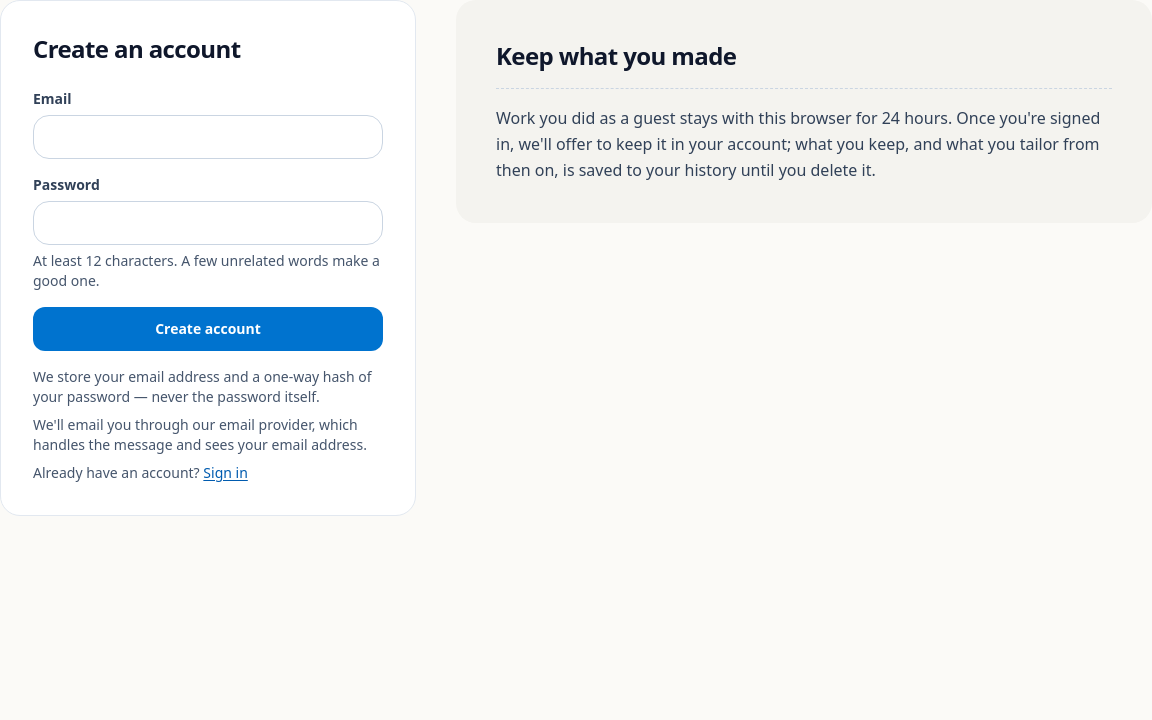
Scenario: AC-45: /register accessibility › after a failed submit: the error is role="alert" and both inputs resolve to it via aria-describedby
The width and height of the screenshot is (1152, 720).
Type "alex@example.com" into the field labelled "Email" at point(208, 137), box [33,115,383,159]
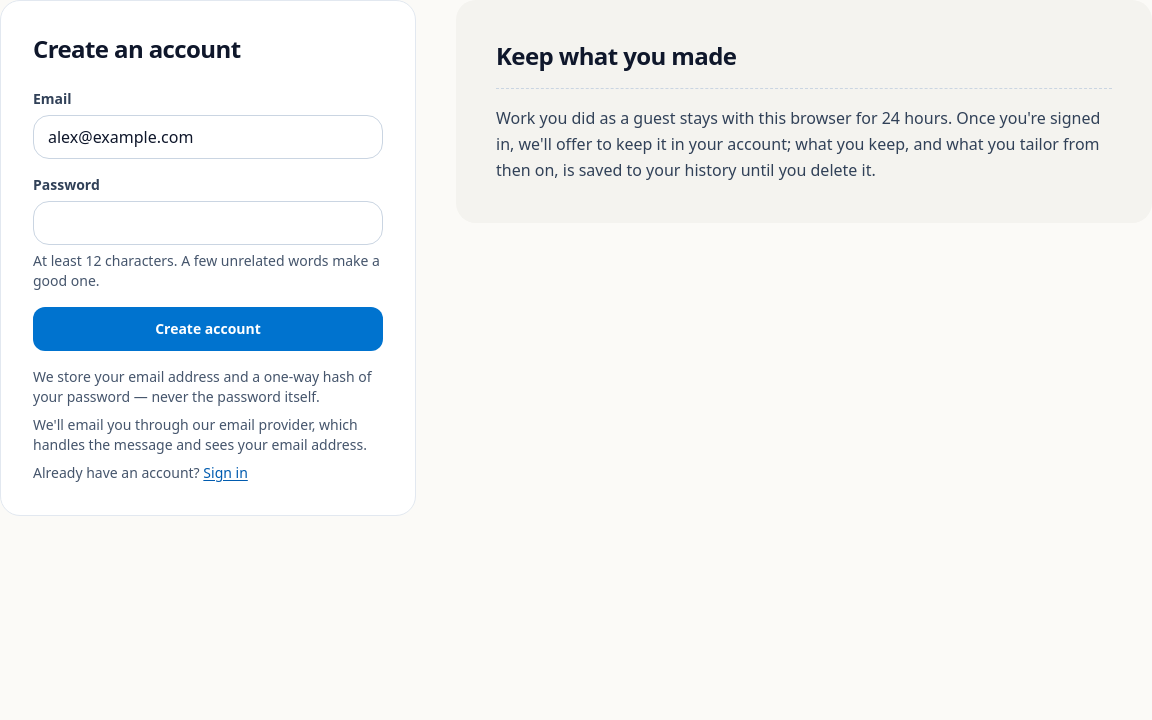
Type "a very long real password" into the password field labelled "Password" at point(208, 223), box [33,201,383,245]
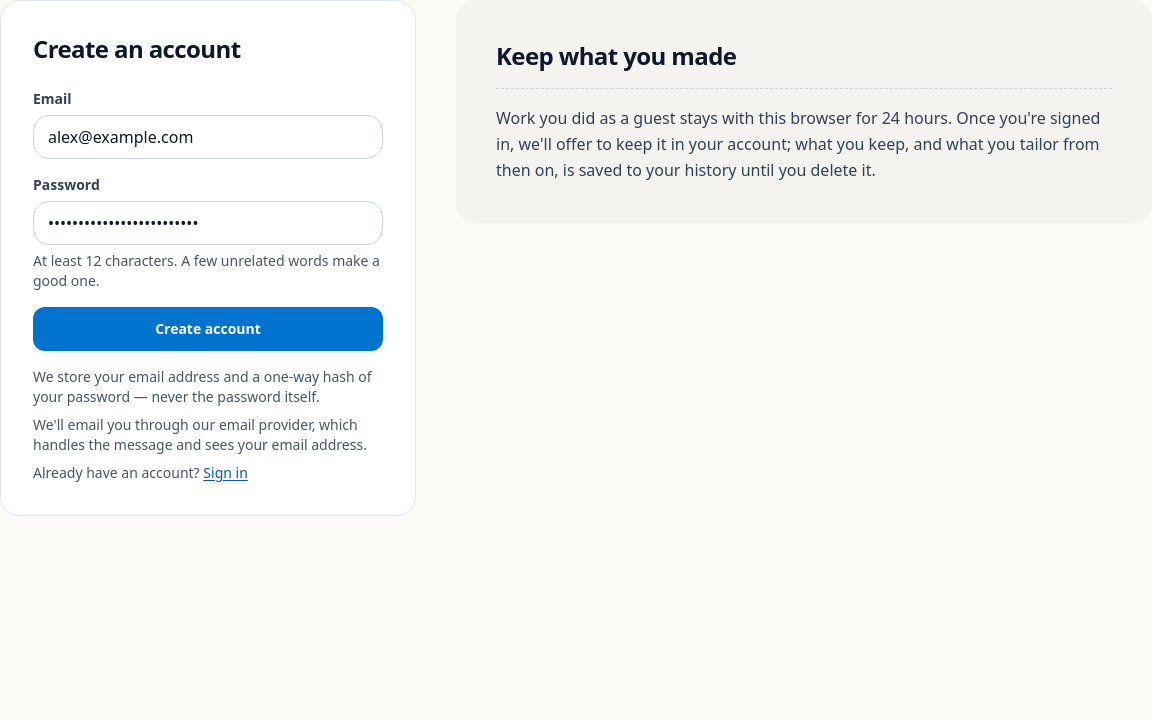
Click the button "Create account" at point(208, 329), box [33,307,383,351]
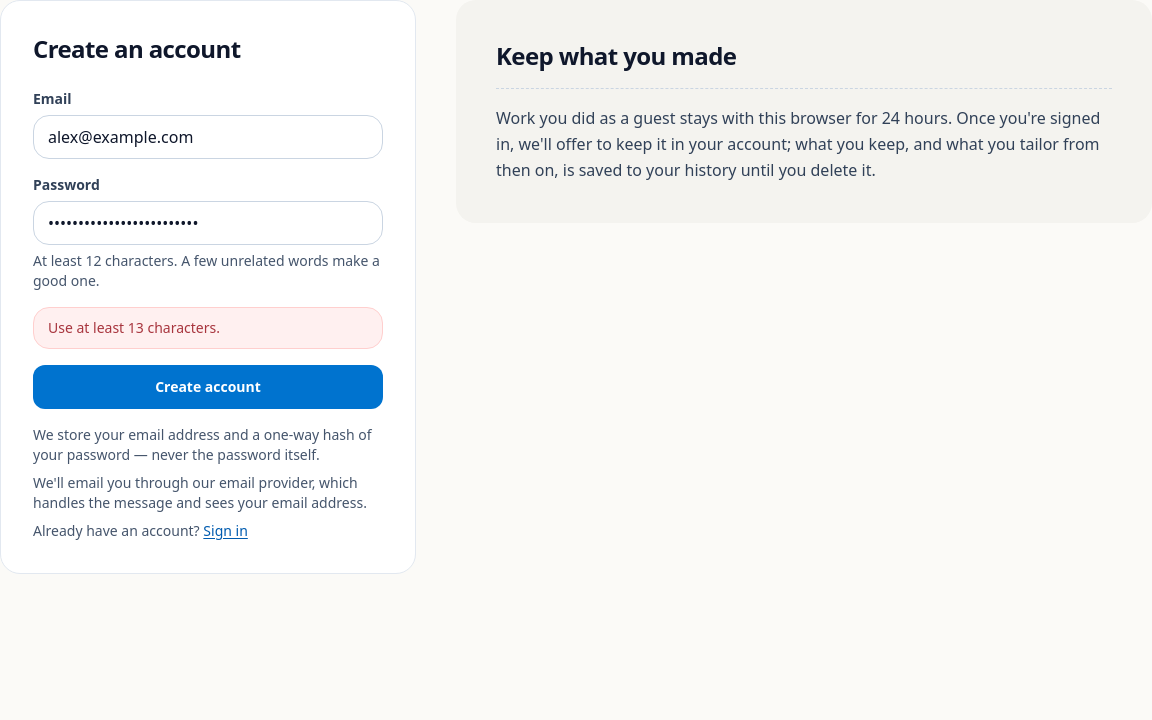
Expected: the message "Use at least 13 characters." is shown, [33,307,383,349]
